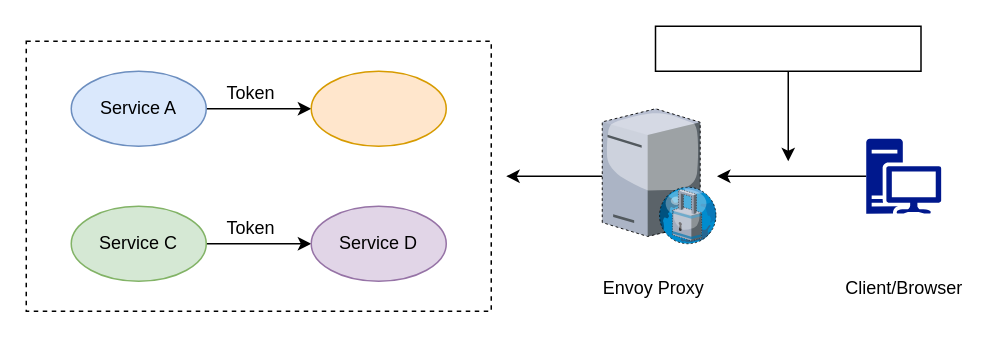
Some shapes in this 989 by 338 pixel diagram are drawn without their labels. The shapes that lost their labels are listed below. From the top down, each one's box as (x1, y1, x2, y2) in pixels, then its label:
(654, 25, 921, 71): Authorization: Bearer <token>
(310, 70, 446, 146): Service B
